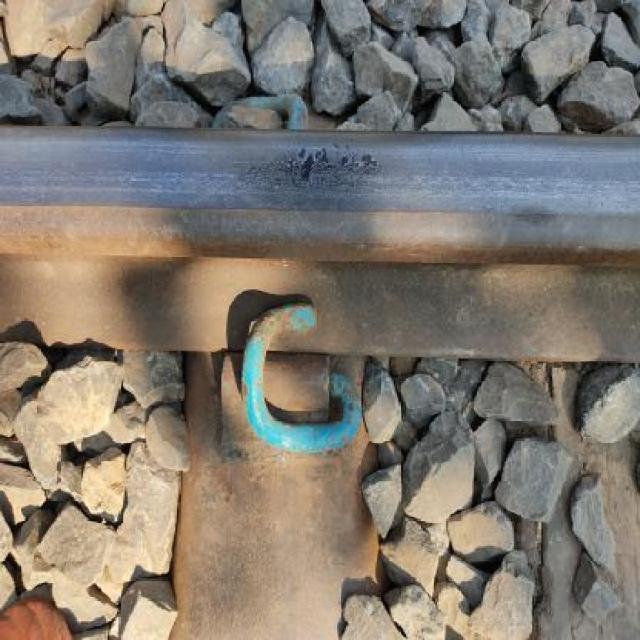defective: (6, 77, 640, 410)
